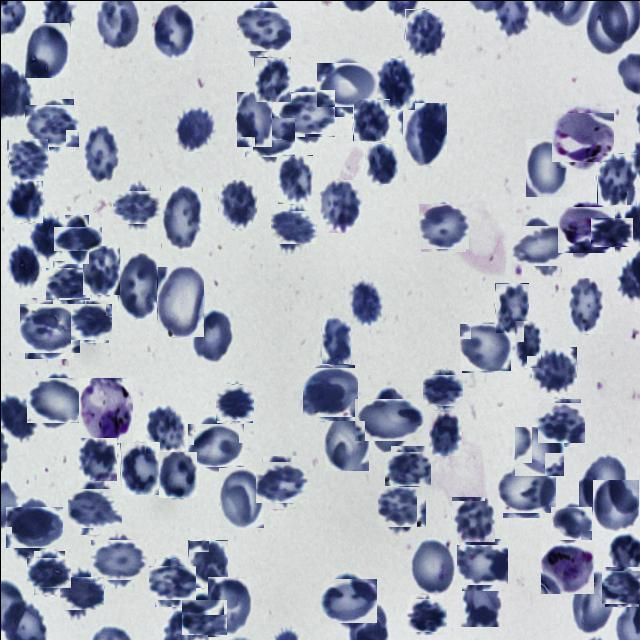gametocyte: (540, 542, 593, 593)
red blood cell: (156, 265, 203, 336), (361, 392, 417, 448), (21, 300, 76, 355), (578, 452, 626, 514), (320, 58, 374, 111), (408, 536, 456, 595), (160, 183, 202, 250), (29, 373, 82, 426), (402, 102, 446, 165), (570, 569, 614, 632), (207, 576, 253, 636), (500, 462, 552, 514), (304, 366, 356, 418), (218, 467, 263, 527), (117, 251, 157, 318), (515, 220, 567, 271), (280, 88, 331, 139), (322, 574, 373, 625), (324, 411, 368, 470), (23, 21, 69, 77), (190, 419, 240, 469), (460, 322, 510, 372), (514, 426, 564, 476), (150, 3, 194, 59), (459, 570, 503, 626), (9, 502, 58, 552), (526, 138, 568, 196), (238, 4, 287, 53), (27, 101, 76, 149), (592, 479, 638, 530), (318, 179, 362, 232), (94, 536, 142, 584), (418, 202, 466, 250), (258, 458, 306, 505), (192, 308, 233, 363), (70, 484, 118, 530), (119, 441, 159, 494), (458, 541, 504, 587), (596, 152, 636, 204), (531, 346, 576, 392), (246, 114, 291, 159), (450, 496, 494, 542), (235, 90, 271, 146), (379, 484, 423, 529), (376, 57, 414, 109), (217, 178, 256, 228), (538, 400, 582, 444), (187, 539, 227, 587), (84, 126, 118, 182), (568, 277, 602, 333), (404, 8, 444, 55), (145, 406, 185, 453), (28, 212, 66, 260), (82, 245, 119, 294), (174, 106, 214, 151), (276, 154, 312, 203), (346, 276, 382, 325), (158, 451, 196, 497), (7, 138, 48, 180), (76, 437, 116, 480), (494, 282, 528, 332), (150, 562, 192, 602), (253, 56, 290, 101), (116, 186, 156, 226), (48, 264, 88, 304), (272, 206, 312, 246), (387, 448, 427, 488), (184, 596, 224, 636), (70, 302, 110, 341), (352, 98, 389, 140), (61, 573, 100, 612), (7, 180, 42, 222), (428, 411, 461, 455), (321, 313, 350, 363), (215, 384, 253, 422), (552, 504, 590, 542), (6, 244, 40, 286), (29, 554, 68, 590), (364, 142, 397, 184), (602, 568, 640, 604), (424, 371, 460, 407), (59, 220, 95, 256), (593, 213, 629, 249), (513, 319, 540, 367), (408, 596, 444, 632)
trophozoite: (78, 377, 132, 442), (554, 108, 610, 164), (559, 203, 611, 256)
